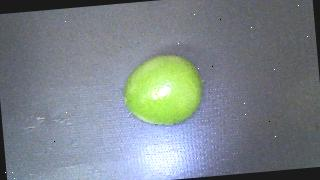EXPORTACION: (121, 52, 207, 128)
